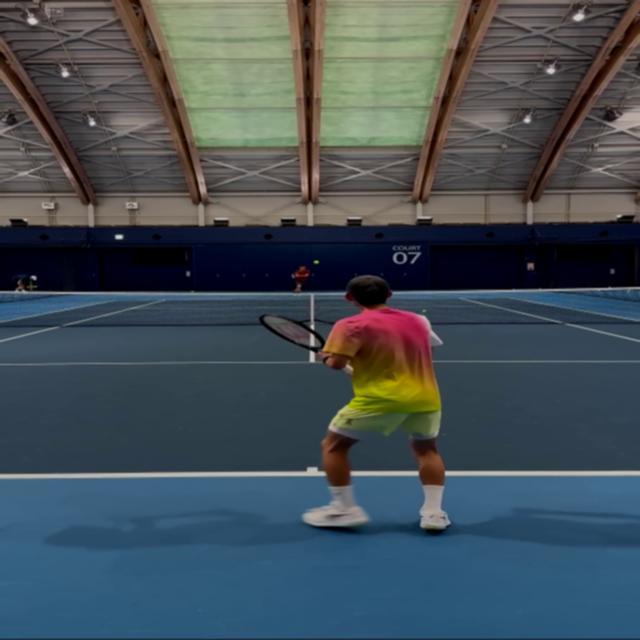tennis_ball: (314, 261, 318, 264)
